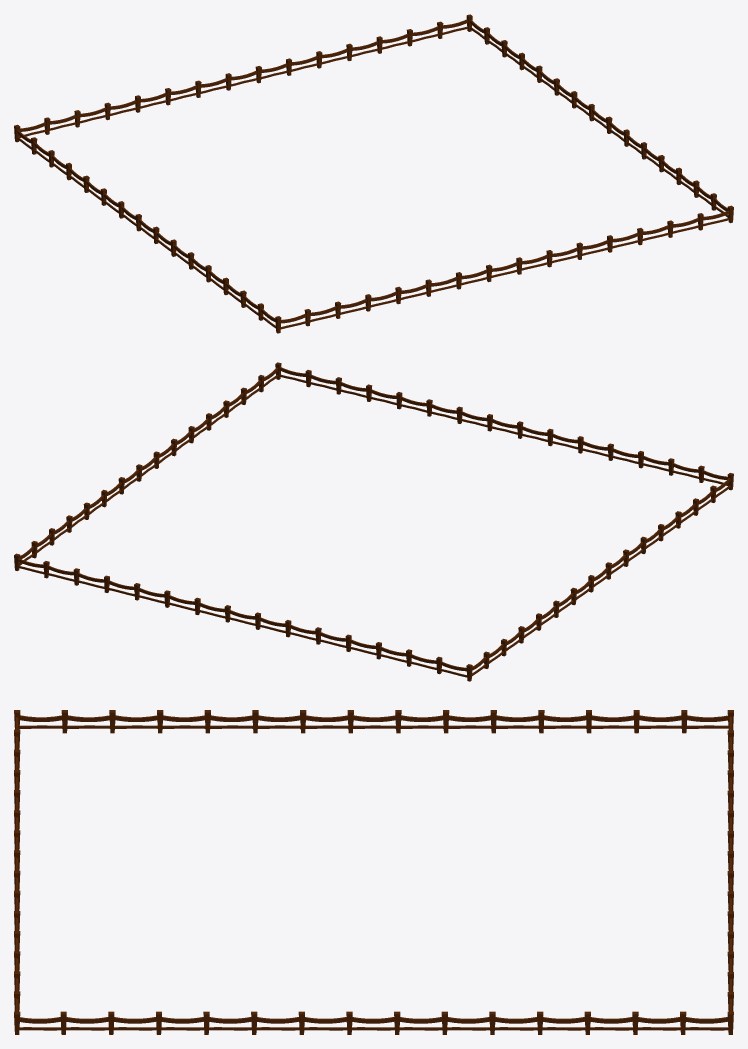
The model's file is fence.fbx.
3 views of the same model, one above another, from view 1: azimuth 30°, elevation 25°; view 2: azimuth 150°, elevation 25°; view 3: azimuth 270°, elevation 25° (orthographic). The views are drawn at different scales.
Parts seen in each view (by area): view 1: Fence_02.001; view 2: Fence_02.001; view 3: Fence_02.001.
Boxes of the visible parts, box(x1,y1,x2,y2) form: Fence_02.001: box(14, 14, 733, 333); Fence_02.001: box(14, 362, 733, 681); Fence_02.001: box(14, 710, 733, 1034).
Size of the model in its own units: 3151 by 102 by 3152.
